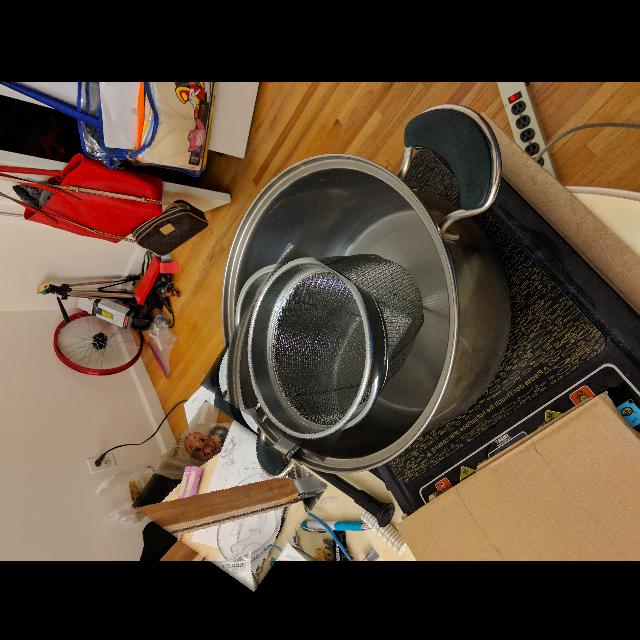Handle: (143, 414, 317, 576)
Strainer: (217, 256, 396, 448)
